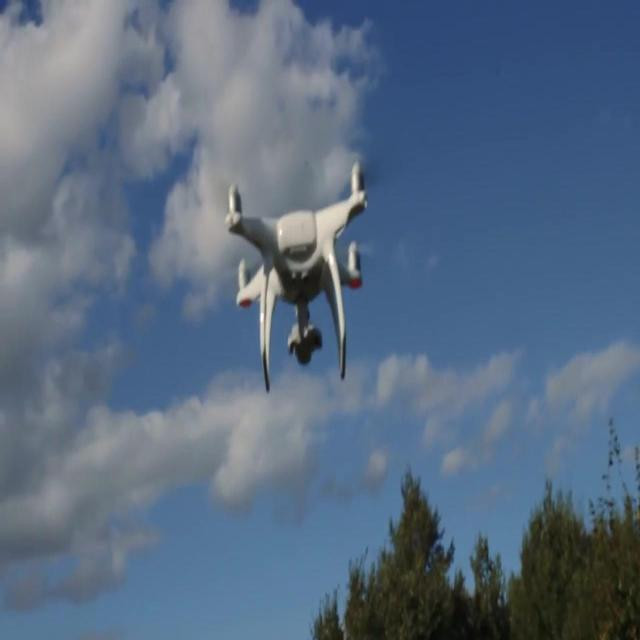drone: (227, 156, 366, 394)
